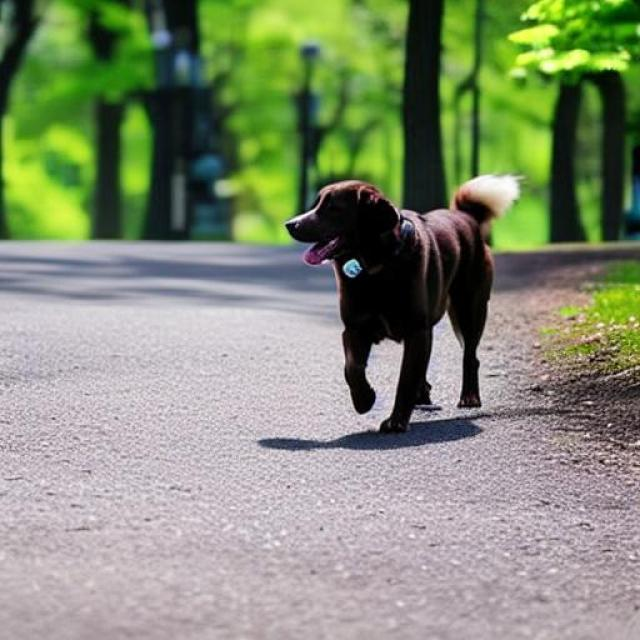Dog: (284, 174, 521, 433)
